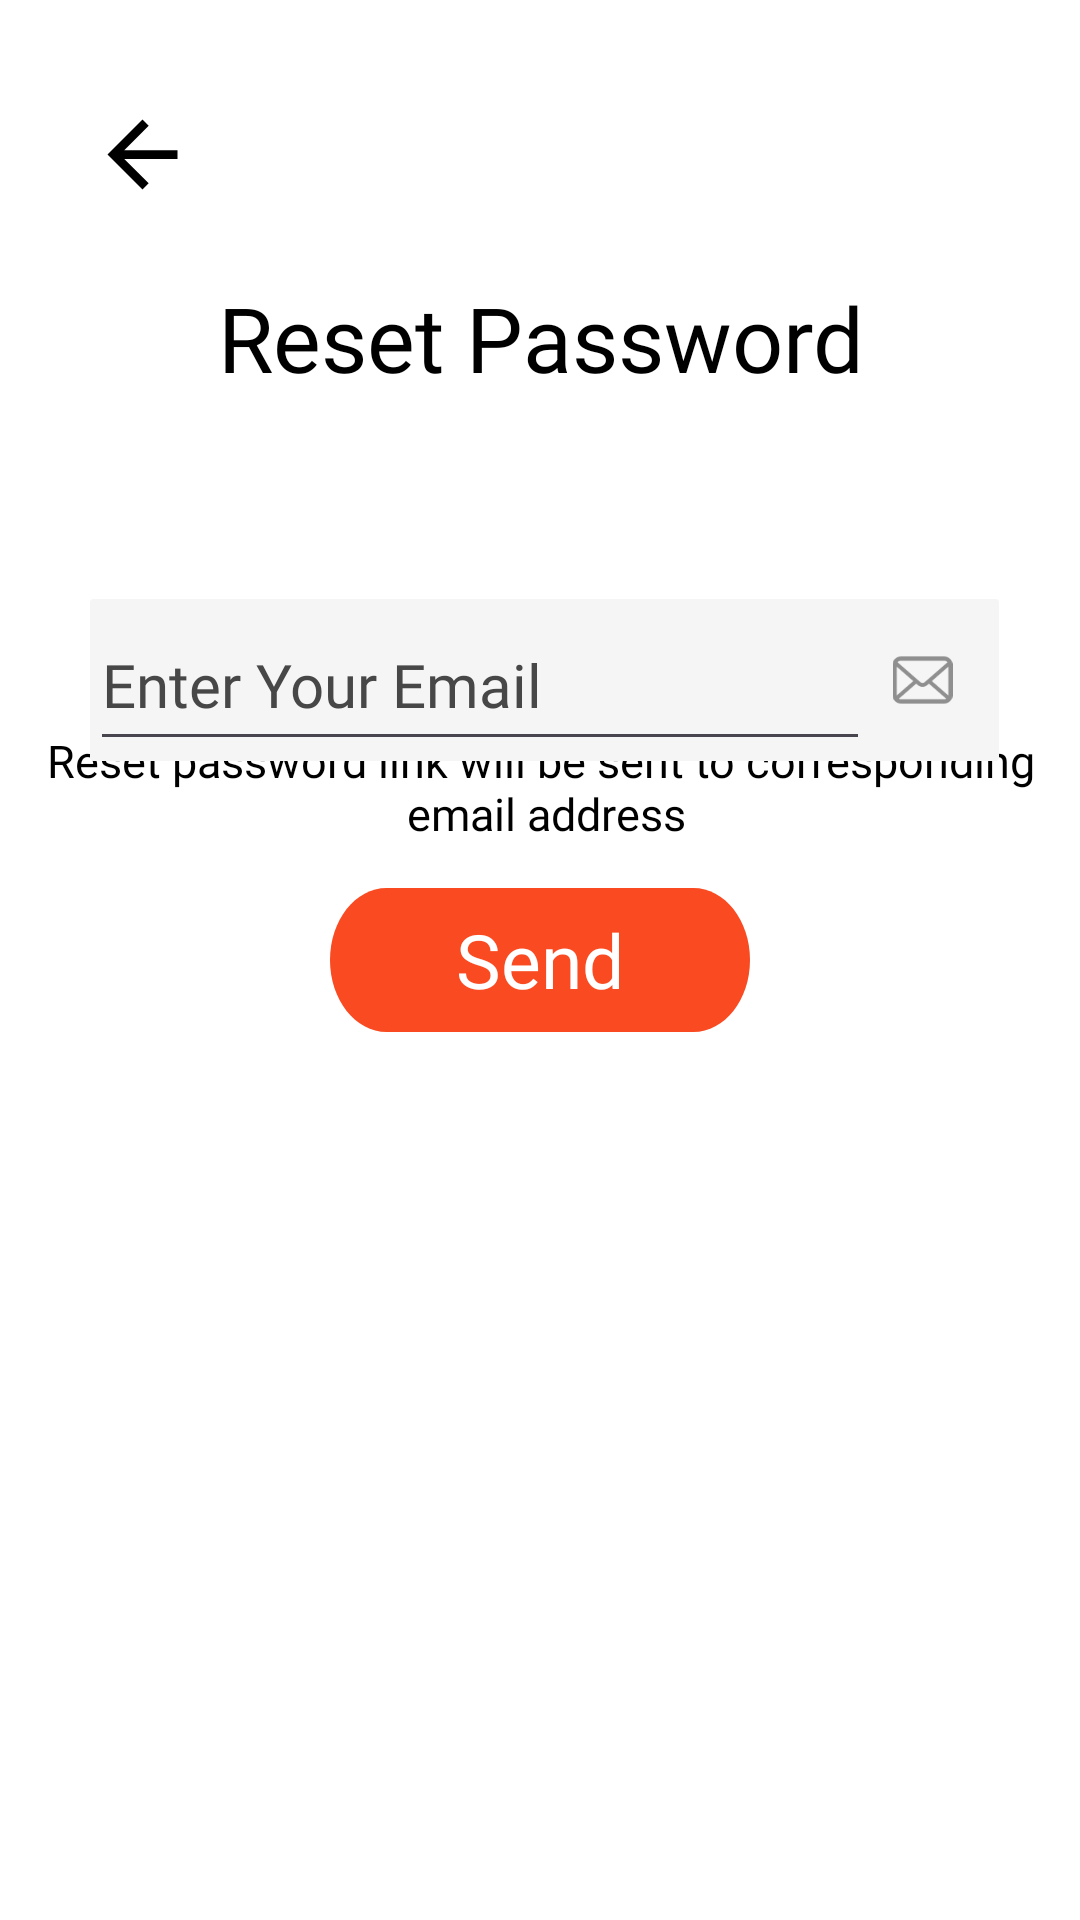

Named icons in this screenshot (1080px×1920px) and their bounding boxes, (x1, y1, x2, y2):
arrow back: (107, 119, 178, 190)
